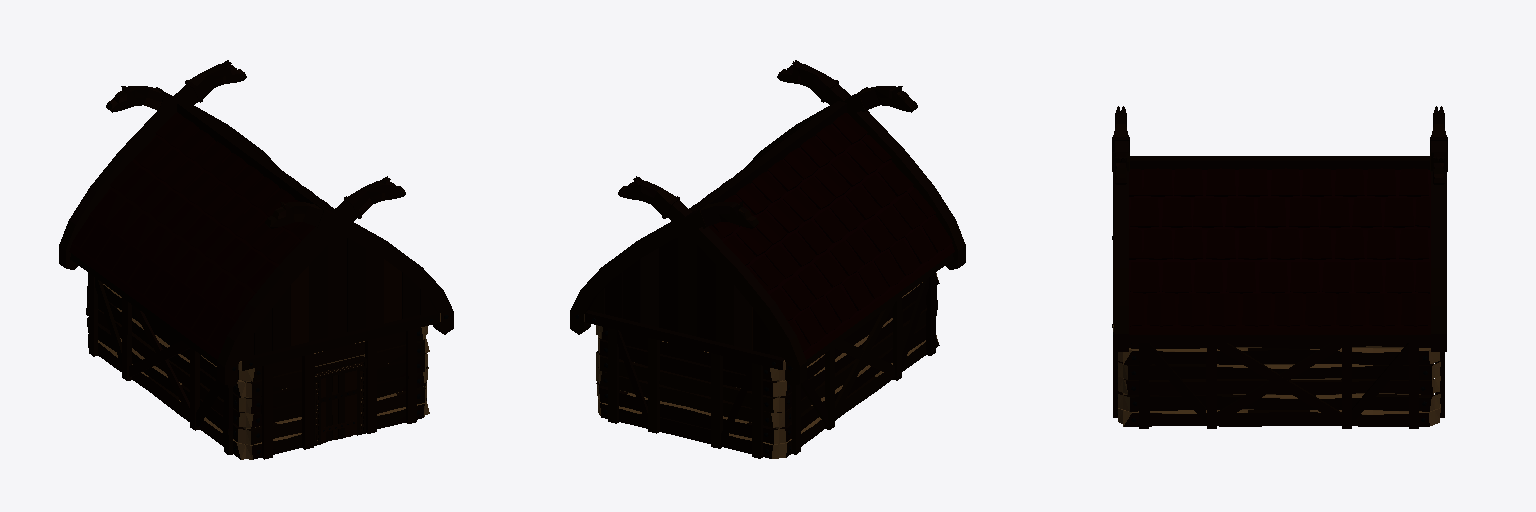
File: PlaceHouseBase.obj
The picture shows the model from 3 angles: view 1: azimuth 30°, elevation 25°; view 2: azimuth 150°, elevation 25°; view 3: azimuth 270°, elevation 25°; orthographic projection.
Parts seen in each view (by area): view 1: house01_Cube; view 2: house01_Cube; view 3: house01_Cube.
Boxes of the visible parts, box(x1,y1,x2,y2) form: house01_Cube: box(59, 60, 453, 459); house01_Cube: box(570, 60, 965, 458); house01_Cube: box(1112, 106, 1447, 428).
Size of the model in its own units: 5.1 by 5.27 by 6.48.